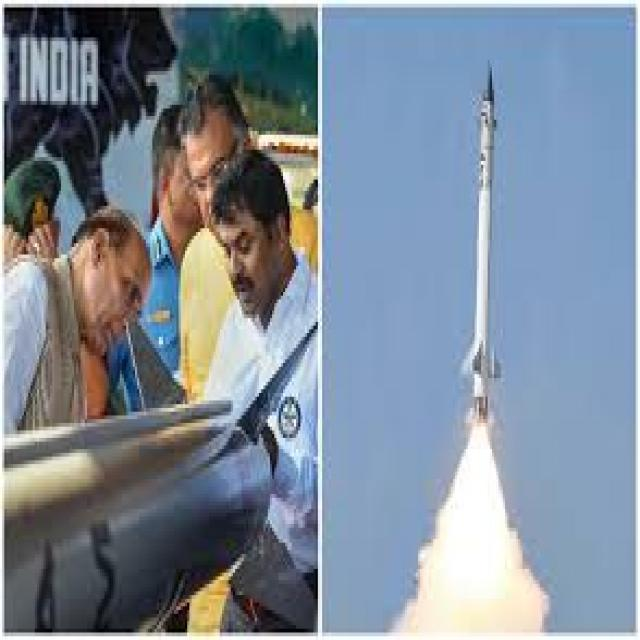Missile: (464, 59, 501, 449)
